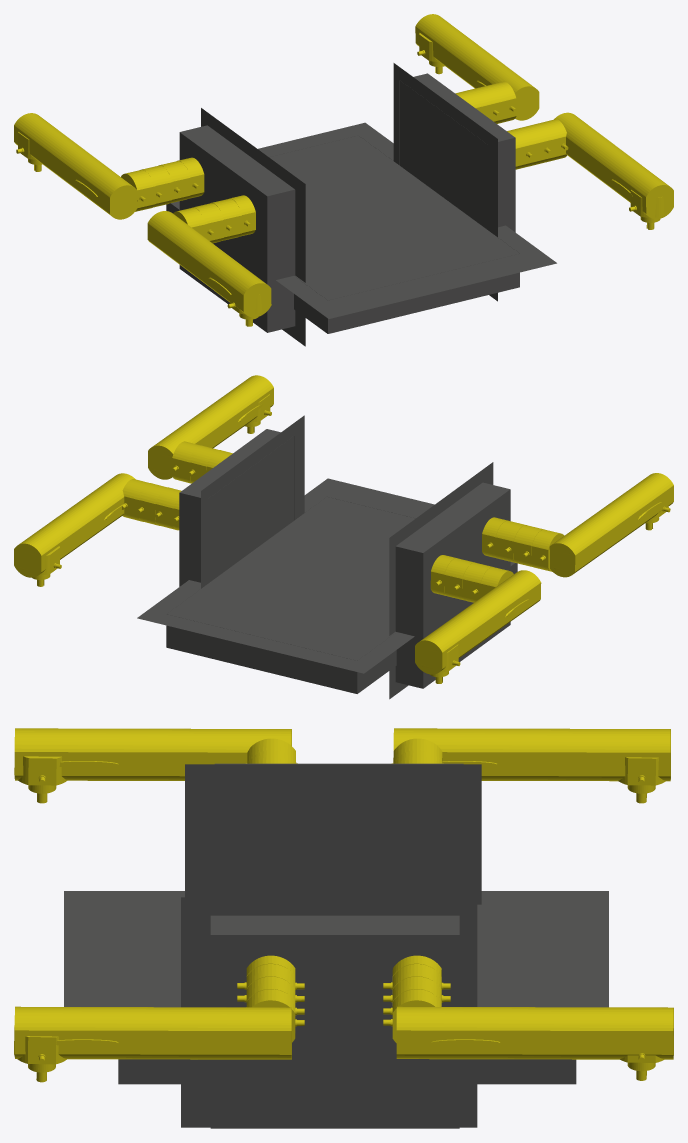
File: chassis.dae
The picture shows the model from 3 angles, top to bottom: view 1: azimuth 30°, elevation 25°; view 2: azimuth 150°, elevation 25°; view 3: azimuth 270°, elevation 25°; orthographic projection. The views are drawn at different scales.
Visible parts, largest first — view 1: Plane_001, Wheel_Steered_0012_001_004, Wheel_Steered_0012_001_002, Wheel_Steered_0012_001_000, Wheel_Steered_0012_001_001; view 2: Plane_001, Wheel_Steered_0012_001_002, Wheel_Steered_0012_001_004, Wheel_Steered_0012_001_001, Wheel_Steered_0012_001_000; view 3: Plane_001, Wheel_Steered_0012_001_000, Wheel_Steered_0012_001_001, Wheel_Steered_0012_001_004, Wheel_Steered_0012_001_002.
Part boxes in pixels (x1,y1,x2,y2): Plane_001: [166, 63, 556, 346]; Wheel_Steered_0012_001_004: [14, 113, 204, 219]; Wheel_Steered_0012_001_002: [147, 195, 271, 326]; Wheel_Steered_0012_001_000: [507, 112, 673, 229]; Wheel_Steered_0012_001_001: [415, 14, 539, 123]; Plane_001: [137, 415, 517, 699]; Wheel_Steered_0012_001_002: [482, 473, 673, 577]; Wheel_Steered_0012_001_004: [415, 555, 541, 683]; Wheel_Steered_0012_001_001: [14, 473, 181, 586]; Wheel_Steered_0012_001_000: [148, 375, 273, 483]; Plane_001: [64, 763, 608, 1128]; Wheel_Steered_0012_001_000: [14, 955, 304, 1082]; Wheel_Steered_0012_001_001: [383, 955, 673, 1080]; Wheel_Steered_0012_001_004: [392, 728, 670, 803]; Wheel_Steered_0012_001_002: [14, 728, 297, 803].
Size of the model in its own units: 1.93 by 1.76 by 0.6815.
